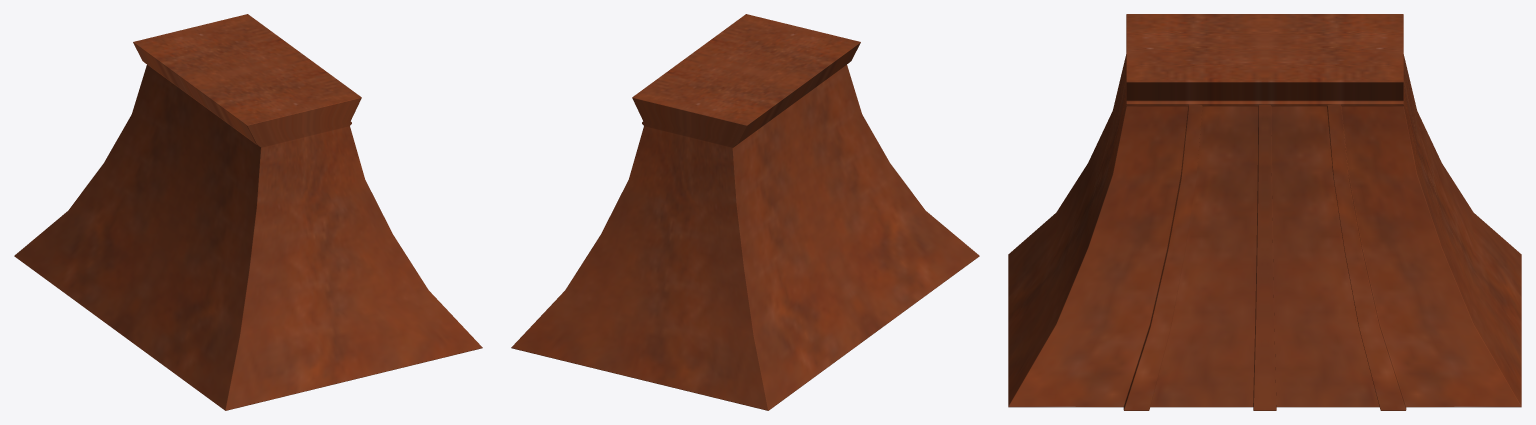
The model's file is Kitchen_Hood.fbx.
The picture shows the model from 3 angles, left to right: view 1: azimuth 30°, elevation 25°; view 2: azimuth 150°, elevation 25°; view 3: azimuth 270°, elevation 25°; orthographic projection. The views are drawn at different scales.
Visible parts, largest first — view 1: pCube1; view 2: pCube1; view 3: pCube1.
Part boxes in pixels (x1=…): pCube1: x1=14, y1=14, x2=482, y2=410; pCube1: x1=511, y1=14, x2=979, y2=410; pCube1: x1=1008, y1=14, x2=1521, y2=410.
Bounding box in the file's own units: 17.5 × 14.76 × 24.3.
